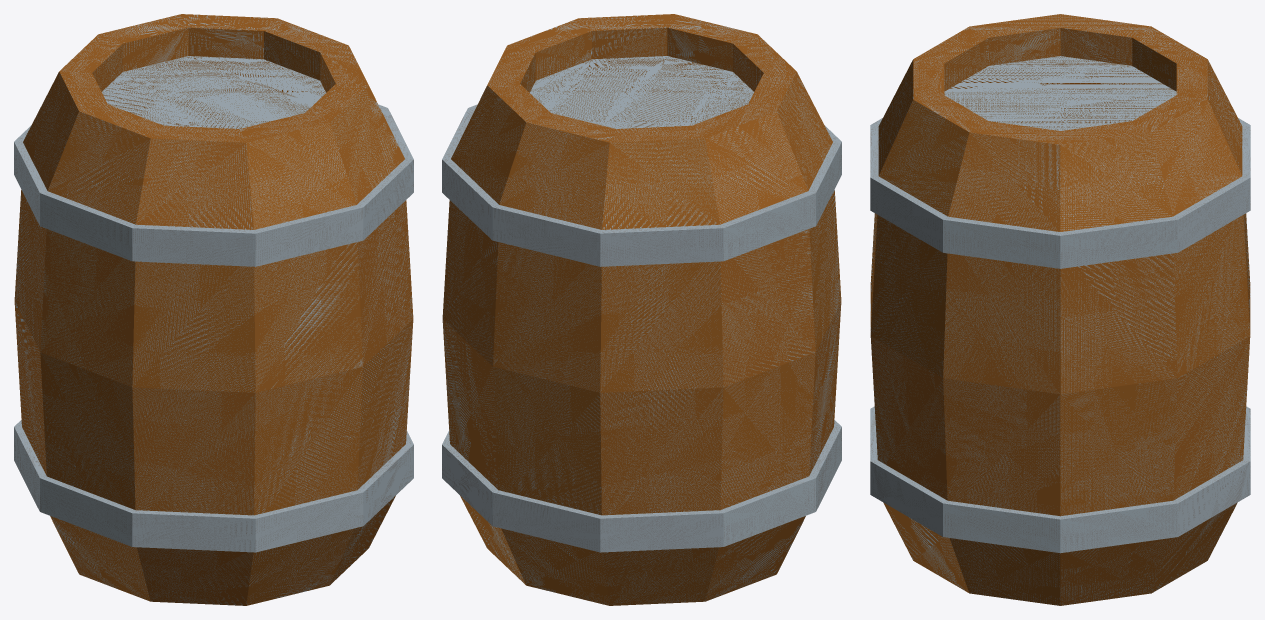
The model's file is Barrel_Lid_01.fbx.
The picture shows the model from 3 angles, left to right: view 1: azimuth 30°, elevation 25°; view 2: azimuth 150°, elevation 25°; view 3: azimuth 270°, elevation 25°; orthographic projection.
Parts seen in each view (by area): view 1: Model; view 2: Model; view 3: Model.
Part boxes in pixels (bbox=[...]): Model: bbox=[14, 14, 413, 605]; Model: bbox=[442, 14, 841, 605]; Model: bbox=[870, 14, 1250, 605].
Bounding box in the file's own units: 158 × 200 × 150.
